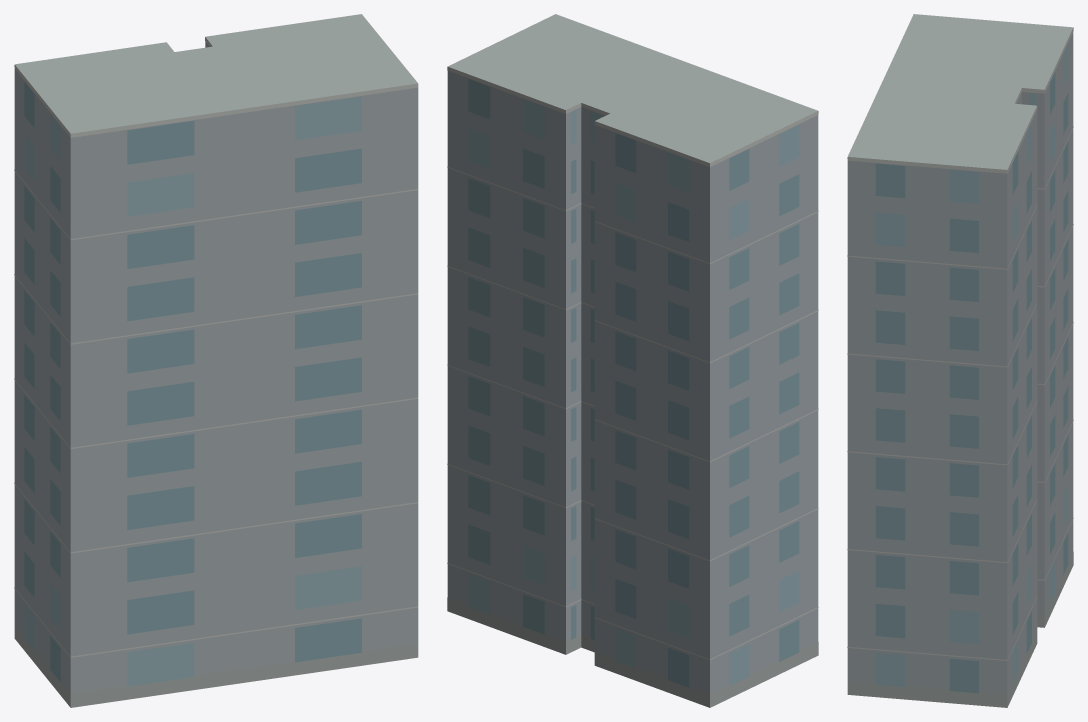
The model's file is survey-upis-32795505.glb.
3 views of the same model, side by side, from view 1: azimuth 30°, elevation 25°; view 2: azimuth 150°, elevation 25°; view 3: azimuth 270°, elevation 25° (orthographic). The views are drawn at different scales.
Visible parts, largest first — view 1: survey-upis-32795505.tmp; view 2: survey-upis-32795505.tmp; view 3: survey-upis-32795505.tmp.
Part boxes in pixels (x1,y1,x2,y2): survey-upis-32795505.tmp: (14, 14, 418, 707); survey-upis-32795505.tmp: (447, 14, 818, 707); survey-upis-32795505.tmp: (847, 14, 1073, 707).
Bounding box in the file's own units: 20.88 × 33.55 × 12.8.
